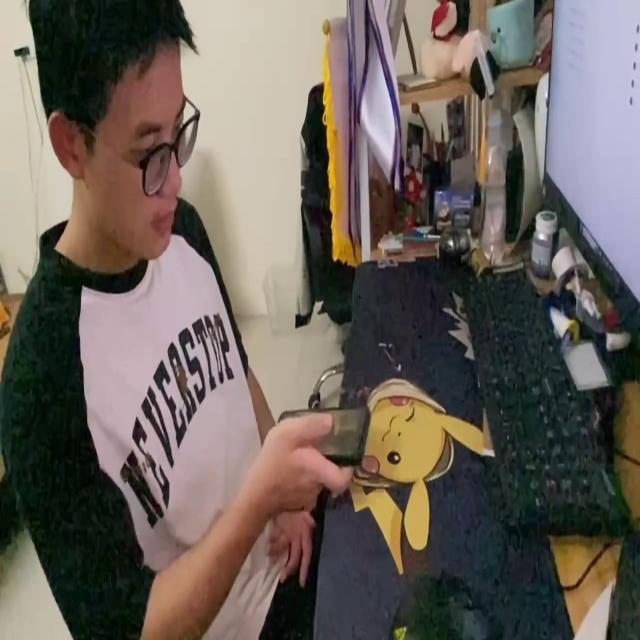laptop: (541, 1, 640, 344)
phone: (274, 401, 372, 472)
student: (2, 0, 352, 640)
